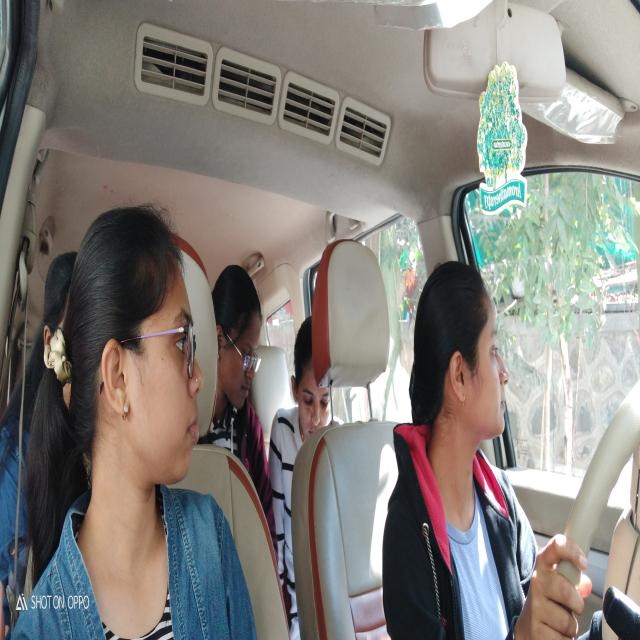LeftRight: (414, 255, 511, 449)
person: (74, 199, 204, 489), (214, 266, 264, 422), (288, 316, 332, 439)
